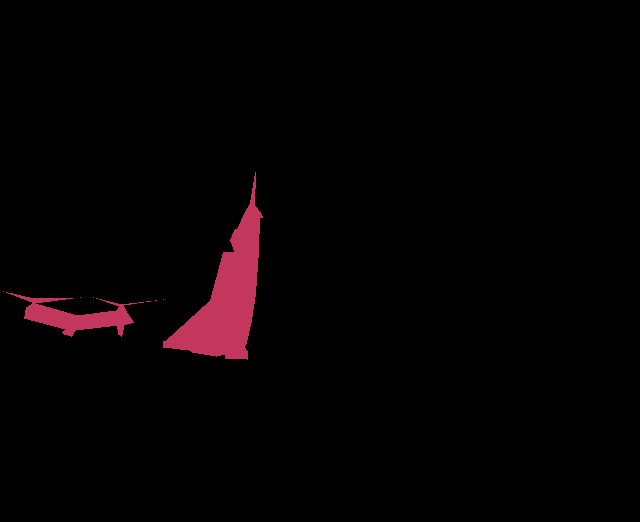Airplane: (163, 172, 262, 359), (3, 291, 163, 337)
